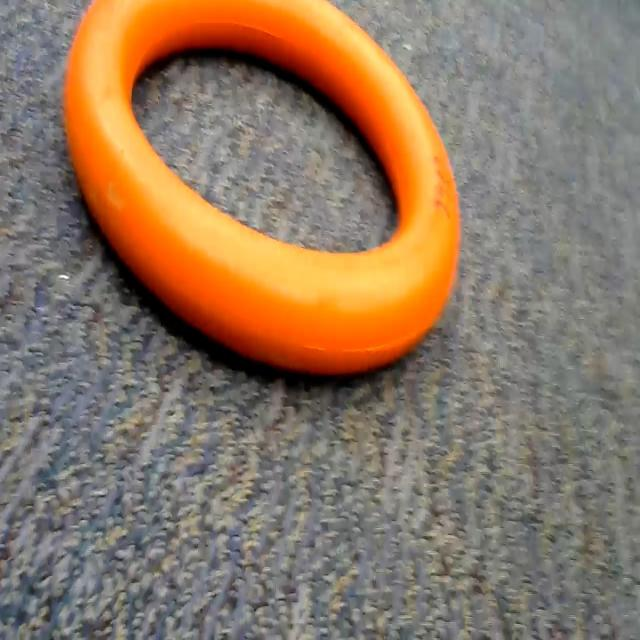note: (62, 0, 473, 396)
